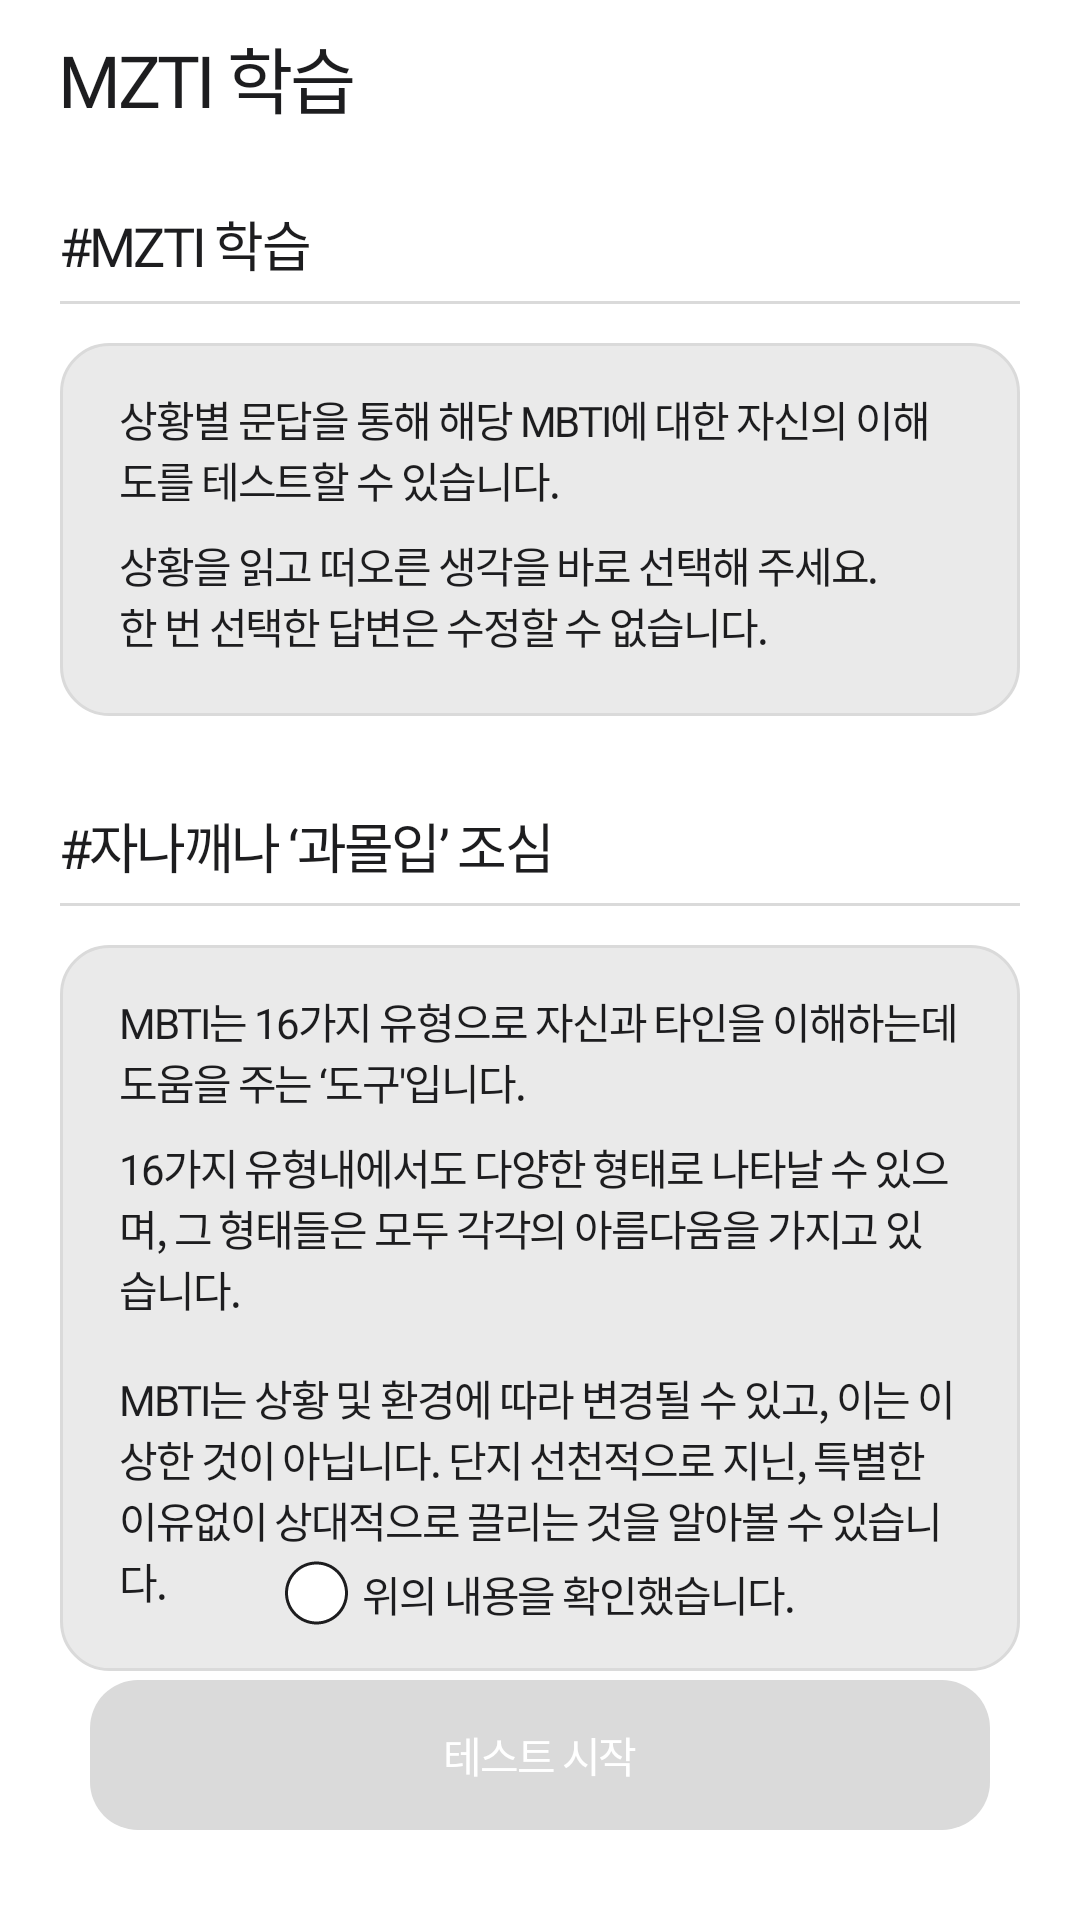

Icon bounding boxes for this 1080x1920 phone screenshot, format (x1, y1, x2, y2):
checkbox: (285, 1561, 348, 1625)
